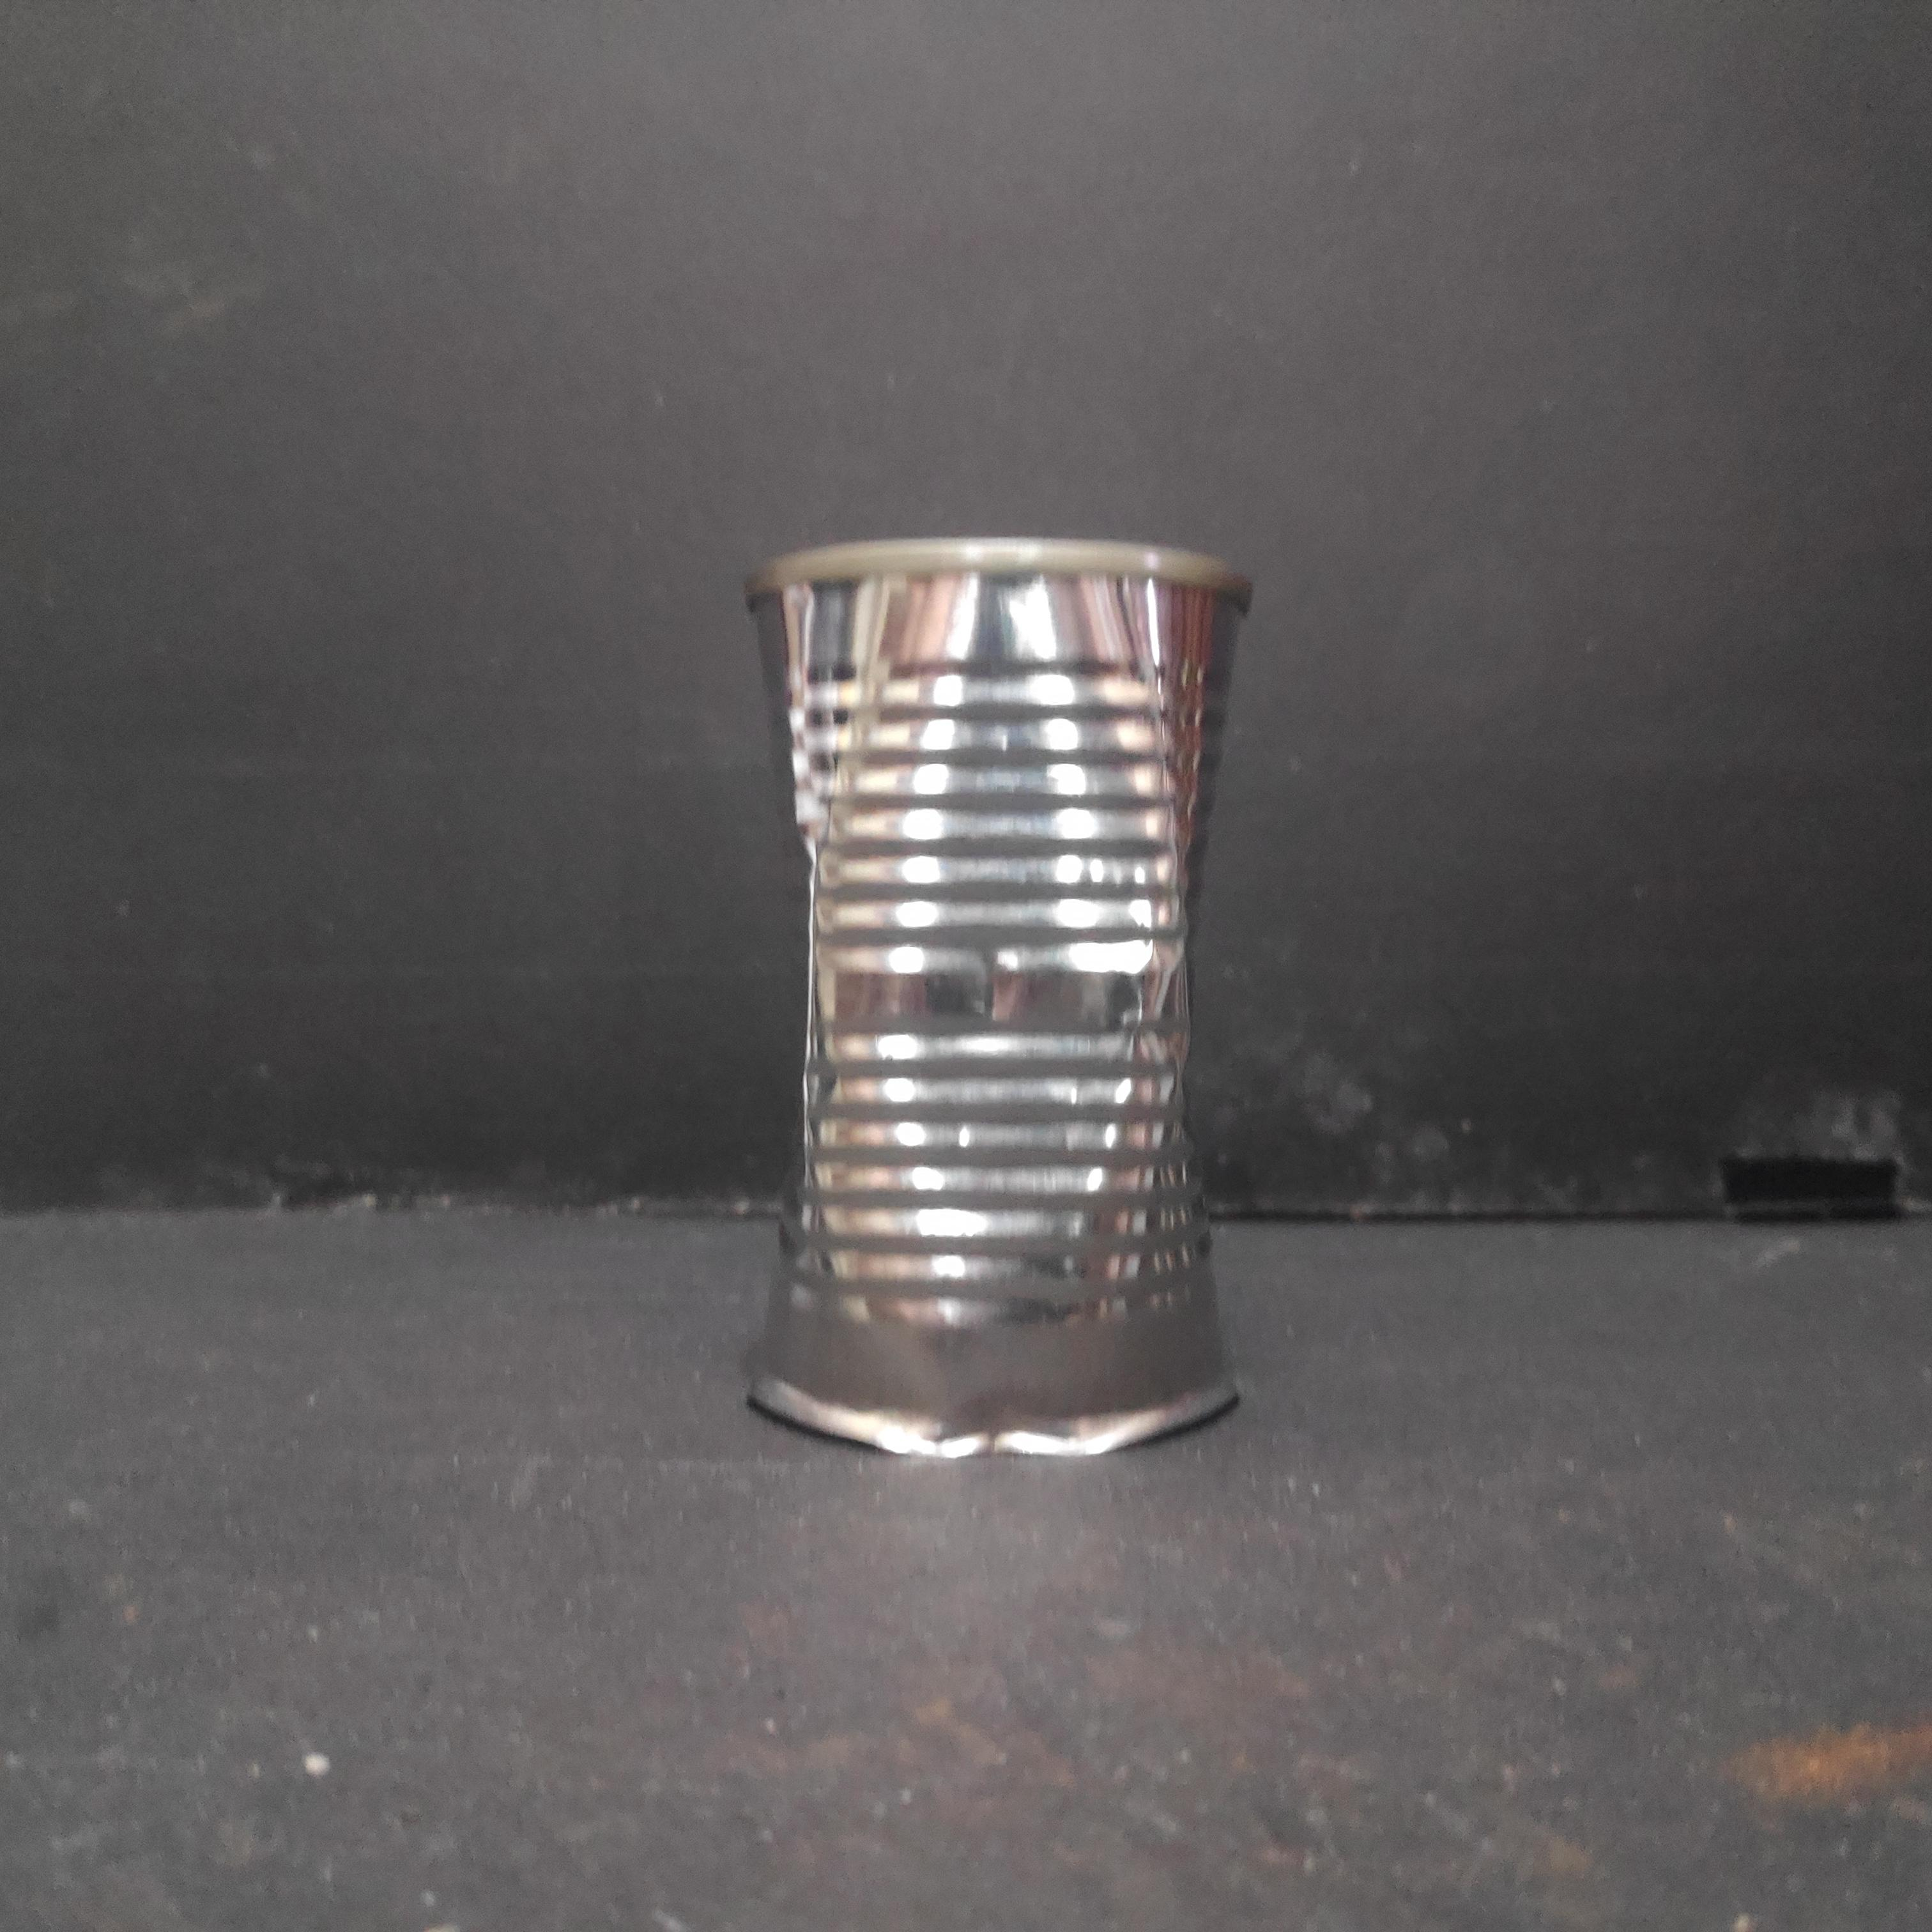Minor Defect: (727, 527, 1267, 1483)
